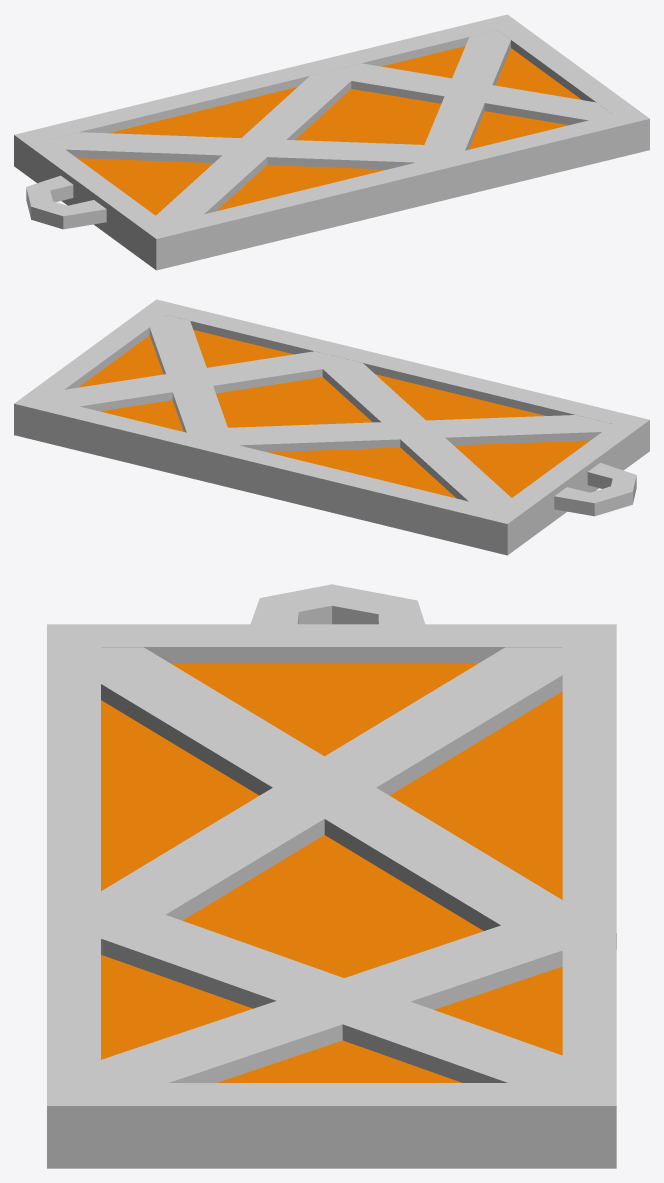
File: Lanyard_Card.fbx
3 views of the same model, one above another, from view 1: azimuth 30°, elevation 25°; view 2: azimuth 150°, elevation 25°; view 3: azimuth 270°, elevation 25° (orthographic). The views are drawn at different scales.
Visible parts, largest first — view 1: Box001; view 2: Box001; view 3: Box001.
Part boxes in pixels (bbox=[...]): Box001: bbox=[14, 14, 649, 270]; Box001: bbox=[14, 299, 649, 555]; Box001: bbox=[47, 584, 616, 1168].
Bounding box in the file's own units: 22.19 × 1.22 × 10.01.
